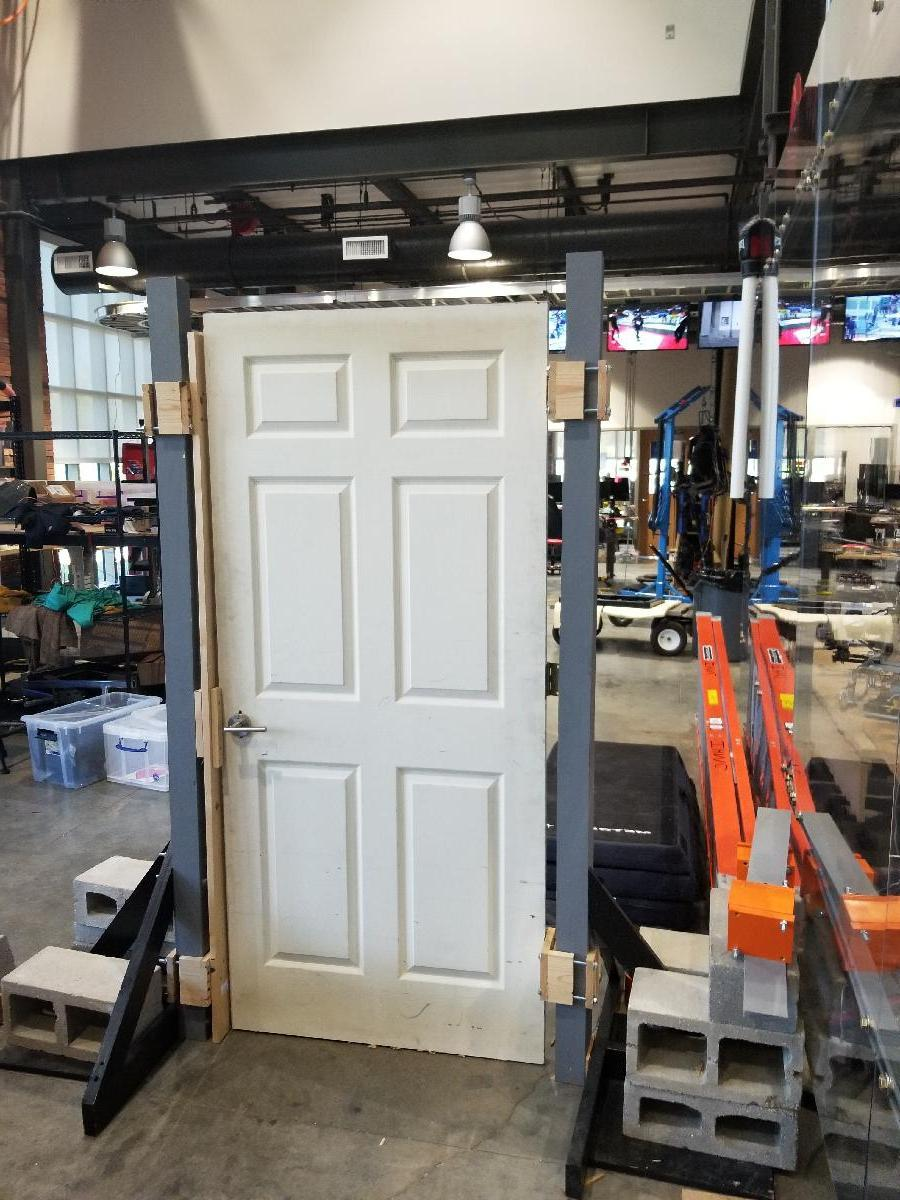door: (221, 288, 544, 1057)
handle: (220, 707, 272, 742)
